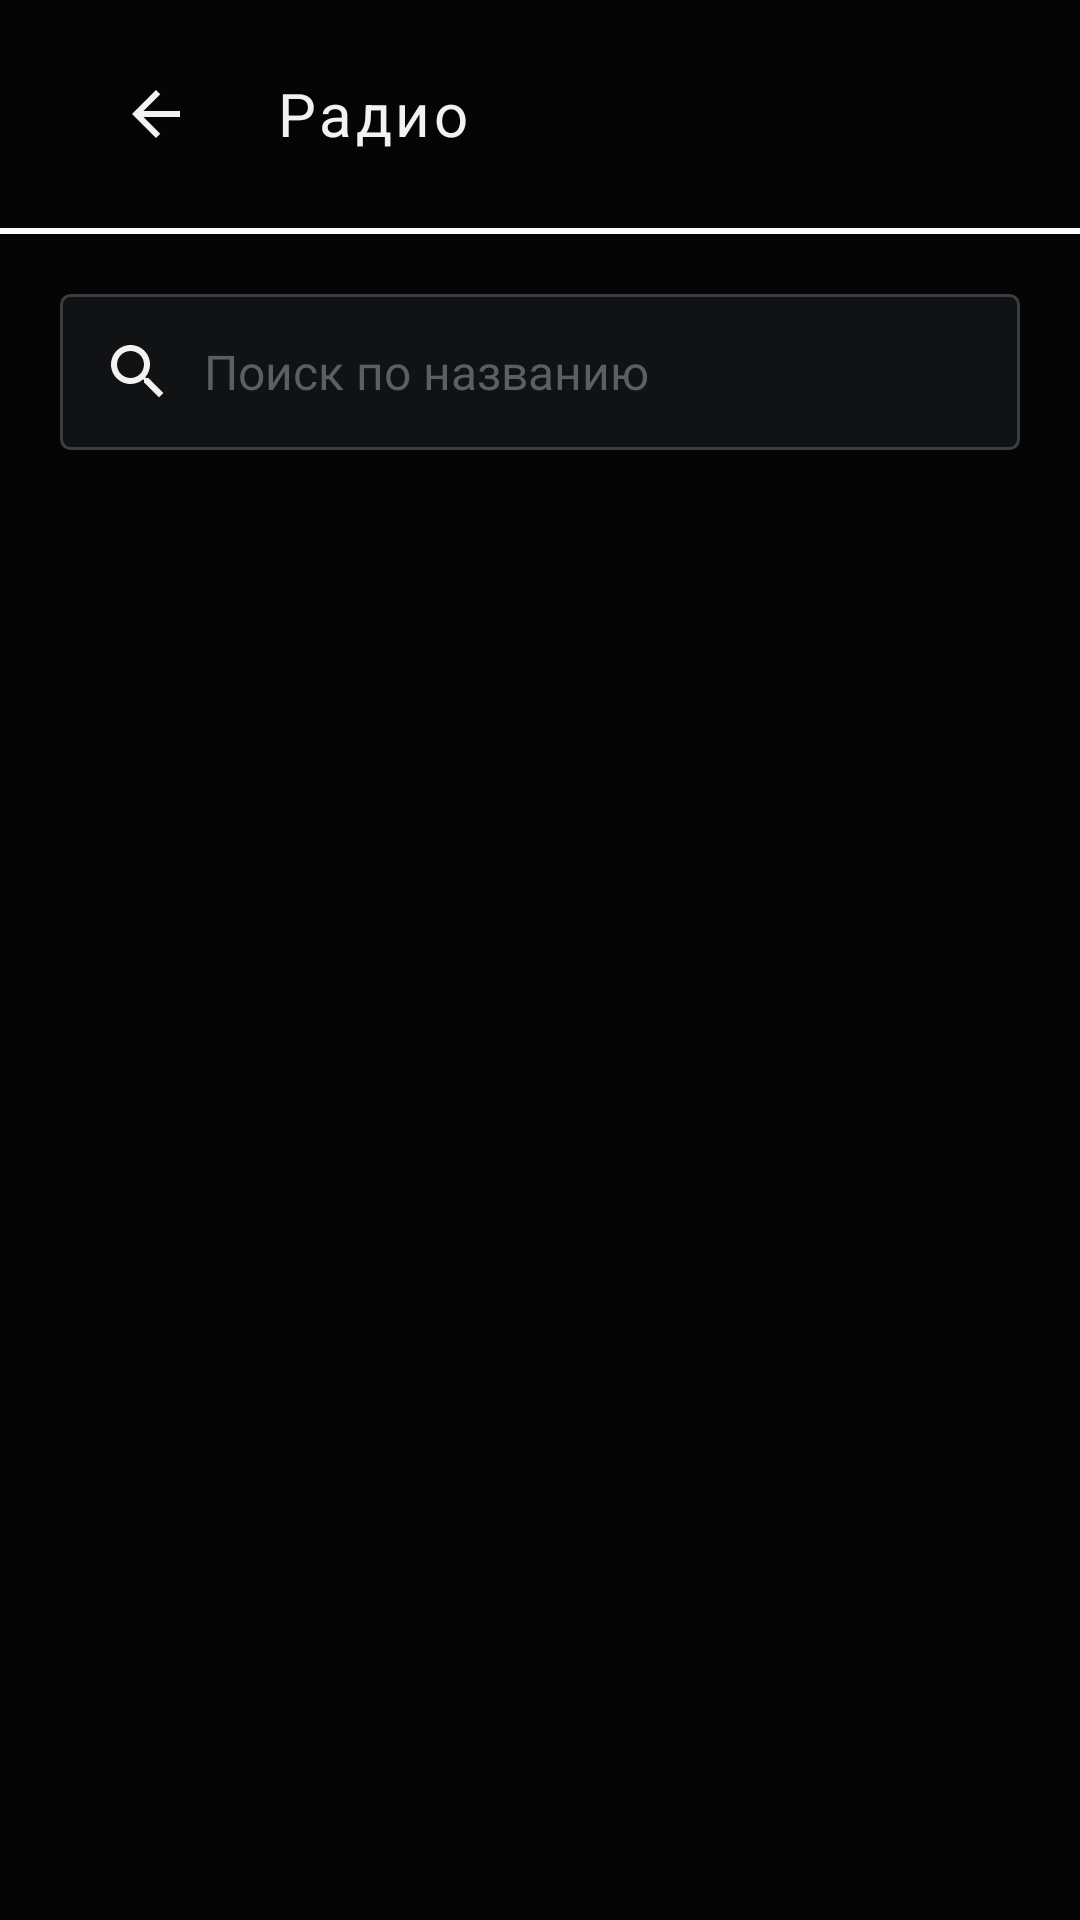

Point at icon controls on the screen. Image size 1080px×1920px, points as (x,y).
Назад: (156,114)
